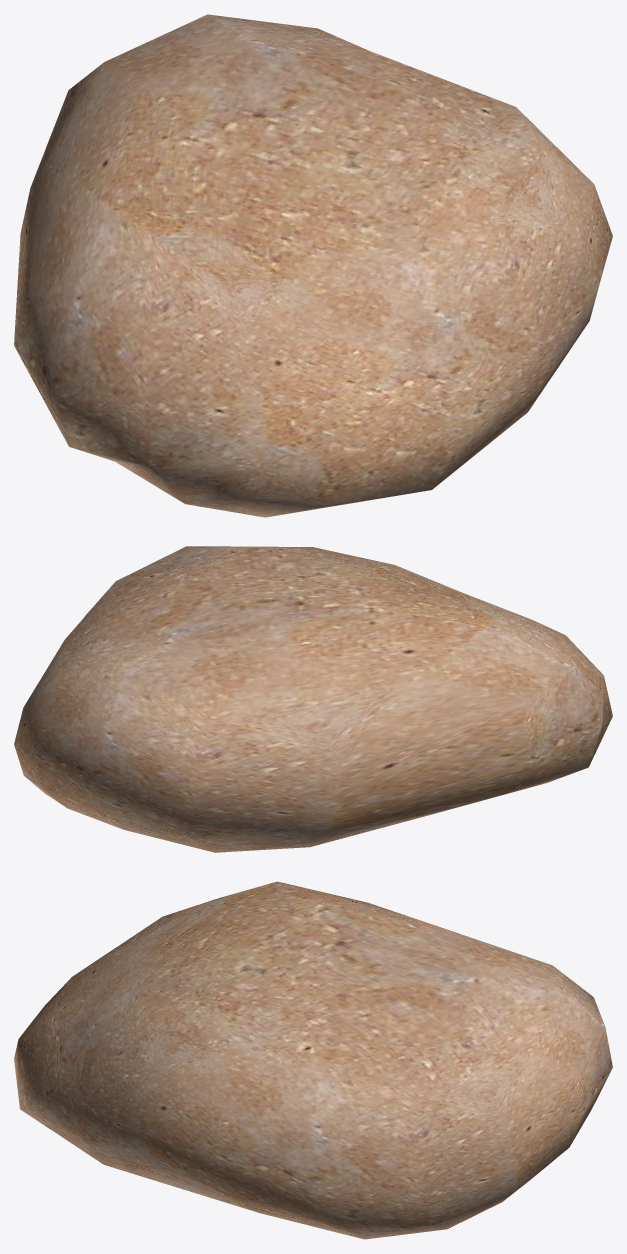
File: Riverstone4.fbx
3 views of the same model, one above another, from view 1: azimuth 30°, elevation 25°; view 2: azimuth 150°, elevation 25°; view 3: azimuth 270°, elevation 25° (orthographic). The views are drawn at different scales.
Visible parts, largest first — view 1: Riverstone4; view 2: Riverstone4; view 3: Riverstone4.
Part boxes in pixels (box(x1,y1,x2,y2)): Riverstone4: box(14, 14, 612, 517); Riverstone4: box(14, 546, 612, 852); Riverstone4: box(14, 881, 612, 1239).
Size of the model in its own units: 107 by 45.69 by 117.
Materials: 1 (1 with a texture image).
